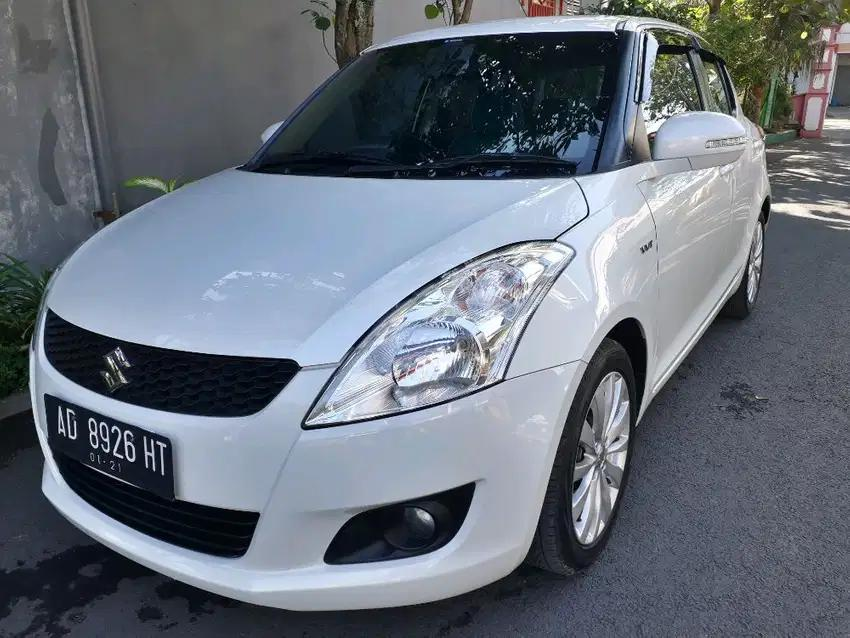plate: (45, 393, 174, 499)
